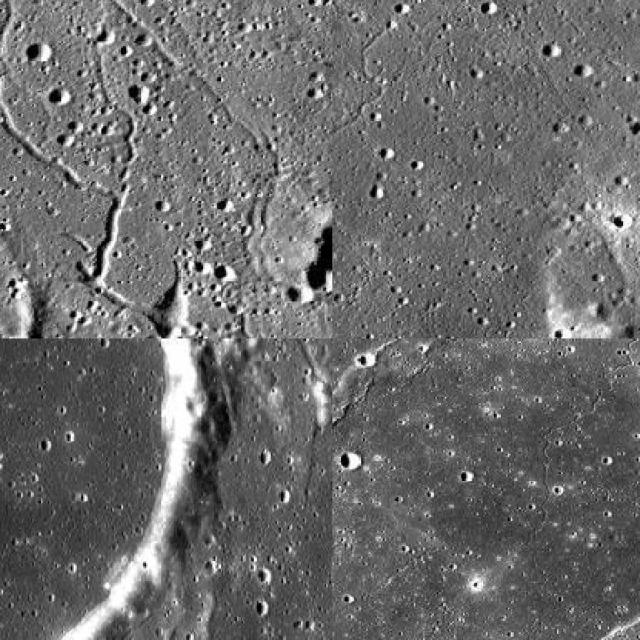rille: (0, 0, 309, 337), (0, 0, 192, 337), (332, 0, 516, 311), (522, 338, 638, 638), (229, 339, 331, 446), (91, 39, 140, 184)
